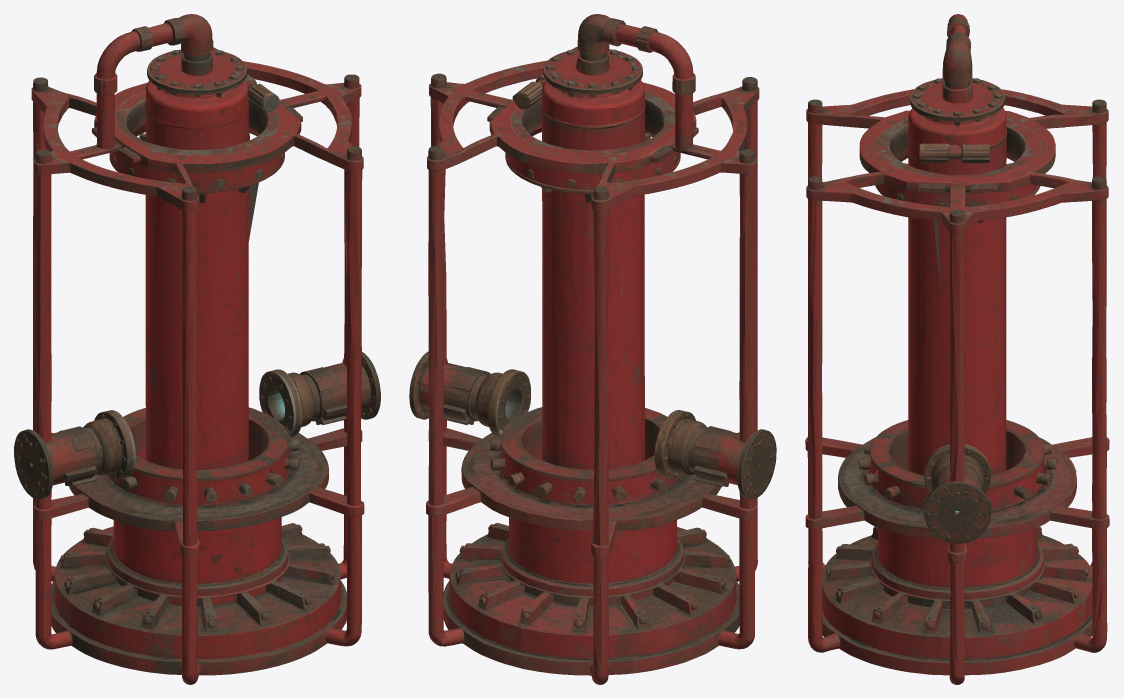
Rendered from cilindro_gabbia.glb.
3 renders of one model, left to right at view 1: azimuth 30°, elevation 25°; view 2: azimuth 150°, elevation 25°; view 3: azimuth 270°, elevation 25°, orthographic. The views are drawn at different scales.
Bounding box in the file's own units: 1.12 × 1.9 × 0.9184.
1 material, 1 textured.
